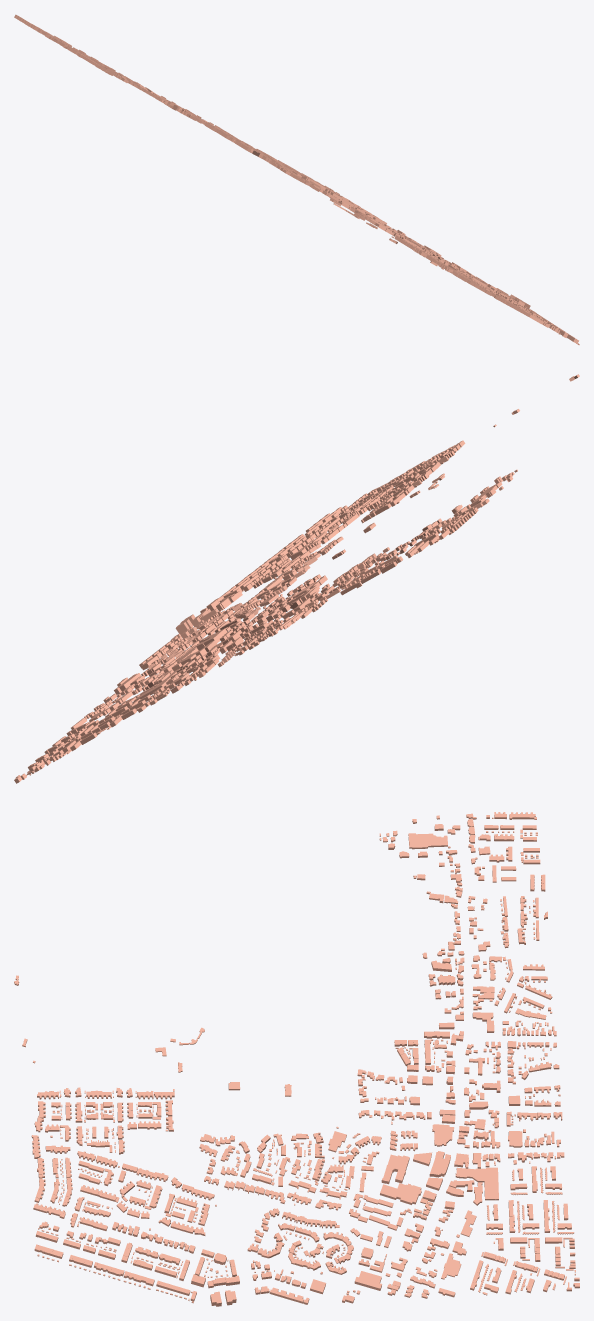
3 views of the same model, one above another, from view 1: azimuth 30°, elevation 25°; view 2: azimuth 150°, elevation 25°; view 3: azimuth 270°, elevation 25° (orthographic). The views are drawn at different scales.
Bounding box in the file's own units: 1028 × 745 × 1257.
